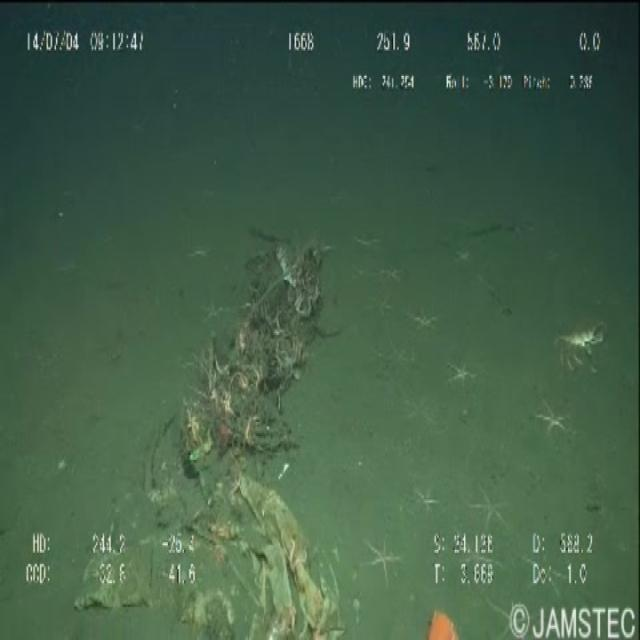Accessories: (71, 448, 350, 640)
Natual-Debris: (182, 190, 338, 488)
